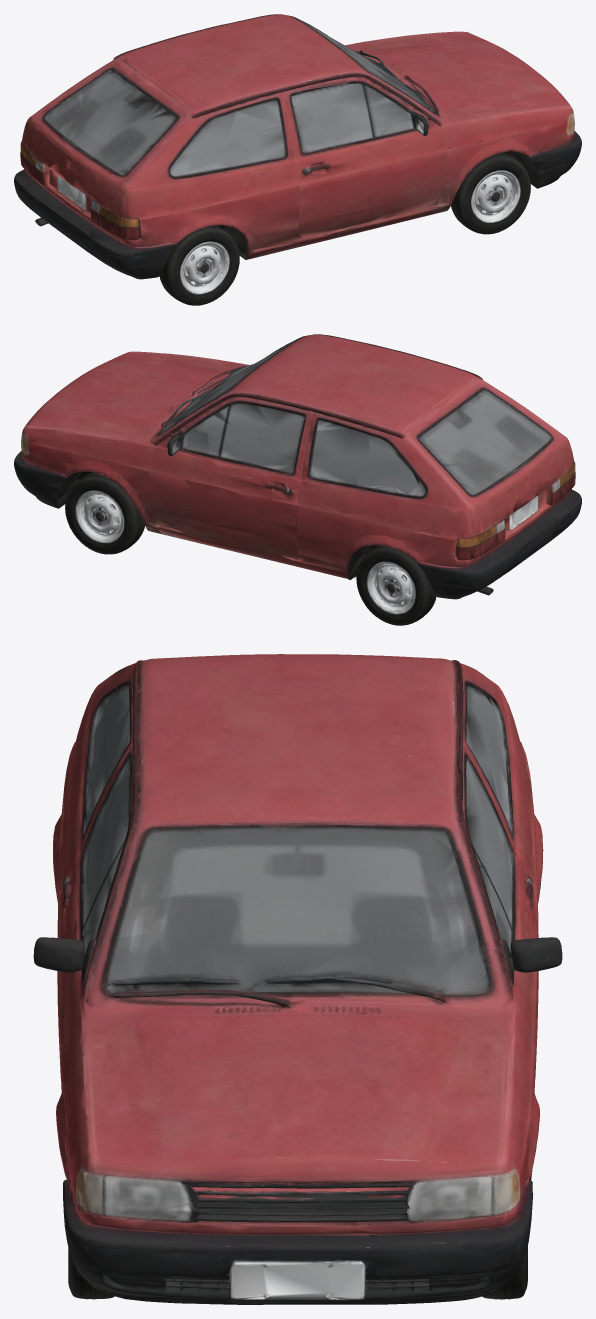
The model's file is hatch-quadrado__01a16954.glb.
The picture shows the model from 3 angles, top to bottom: view 1: azimuth 30°, elevation 25°; view 2: azimuth 150°, elevation 25°; view 3: azimuth 270°, elevation 25°; orthographic projection. The views are drawn at different scales.
Parts seen in each view (by area): view 1: hatch-quadrado__01a16954; view 2: hatch-quadrado__01a16954; view 3: hatch-quadrado__01a16954.
Part boxes in pixels (box(x1,y1,x2,y2)): hatch-quadrado__01a16954: box(14, 14, 581, 305); hatch-quadrado__01a16954: box(14, 334, 581, 625); hatch-quadrado__01a16954: box(33, 654, 562, 1304).
Size of the model in its own units: 3.81 by 1.42 by 1.82.
Materials: 1 (1 with a texture image).
